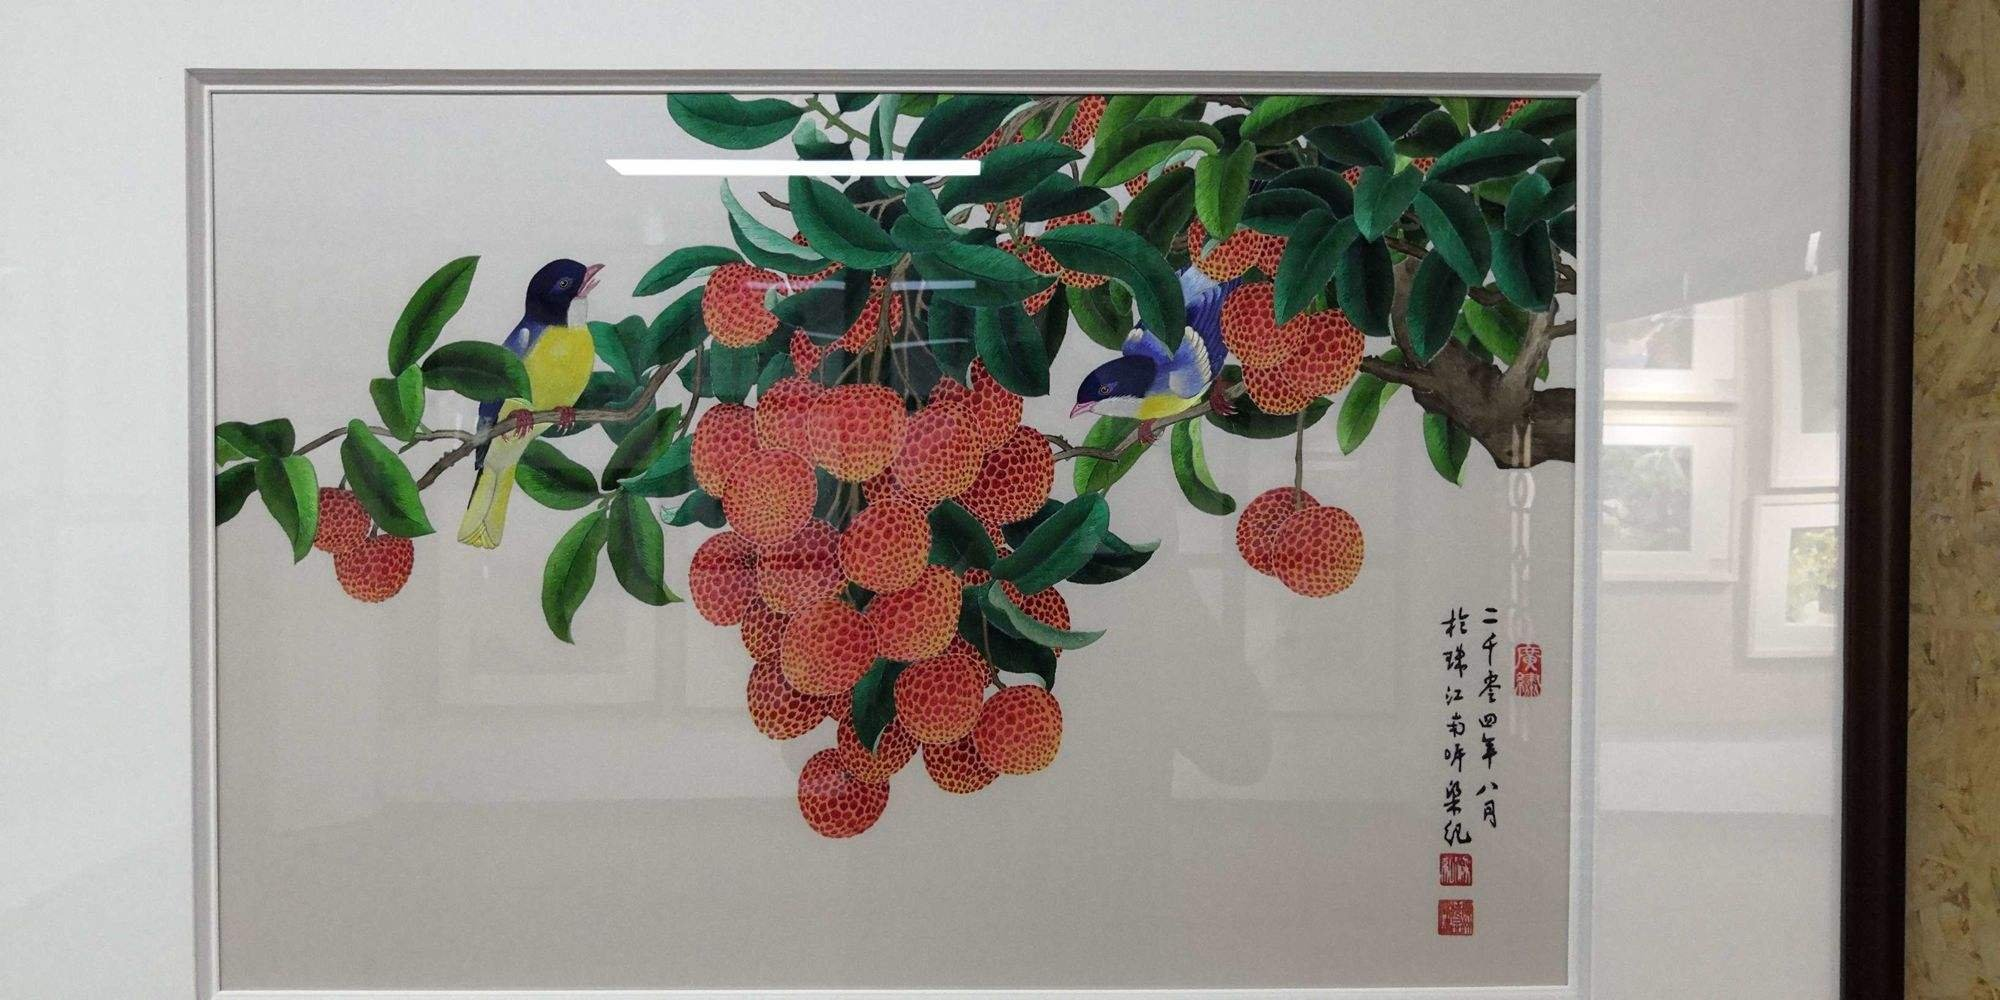bird: (457, 255, 601, 548), (1073, 279, 1241, 430)
lychee: (895, 371, 1057, 526), (1221, 276, 1365, 413), (834, 489, 973, 622), (901, 369, 1034, 497), (687, 397, 815, 531), (980, 184, 1099, 311), (1235, 483, 1364, 598), (955, 385, 1057, 527), (311, 485, 415, 603), (772, 583, 886, 687), (835, 489, 944, 598), (847, 569, 967, 658), (893, 638, 994, 737), (806, 379, 908, 477), (909, 682, 999, 793), (837, 477, 930, 582), (796, 745, 895, 839), (689, 531, 781, 633), (976, 680, 1062, 776), (744, 658, 835, 739), (916, 496, 1001, 579), (700, 263, 781, 346), (1186, 224, 1286, 281), (922, 732, 1004, 790), (1042, 96, 1114, 151), (1125, 158, 1187, 198), (952, 130, 1031, 161), (1501, 98, 1532, 122), (1415, 154, 1435, 171), (1343, 165, 1358, 184)
